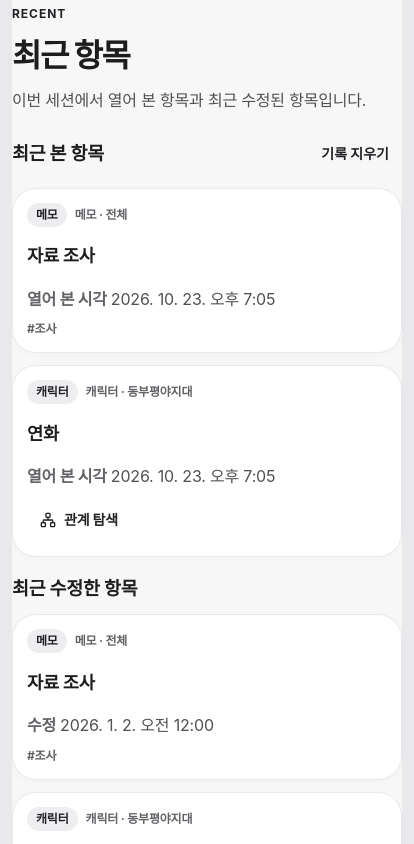
Scenario: Task 13 recent page › lists session views newest first and recently updated entities
Click the button "기록 지우기". click: click(355, 154)
box: [308, 132, 402, 176]
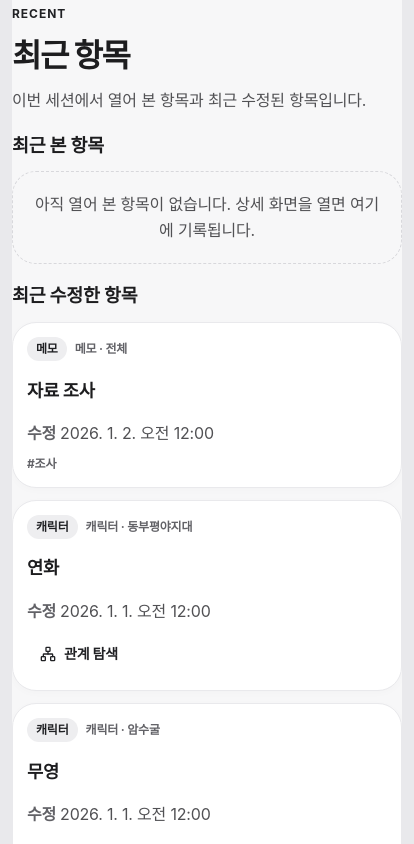
expect the text "아직 열어 본 항목이 없습니다. 상세 화면을 열면 여기에 기록됩니다." is shown: met, box [12, 171, 402, 264]
